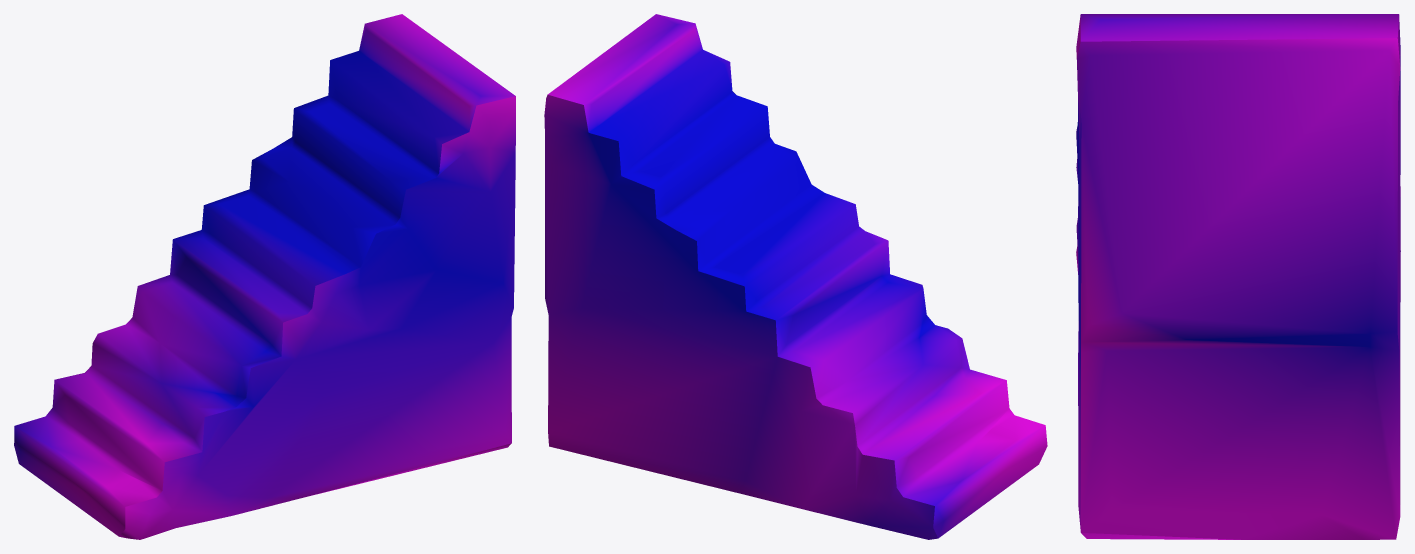
Rendered from SM_Stairs_A.FBX.
3 views of the same model, side by side, from view 1: azimuth 30°, elevation 25°; view 2: azimuth 150°, elevation 25°; view 3: azimuth 270°, elevation 25° (orthographic). The views are drawn at different scales.
Visible parts, largest first — view 1: SM_Stairs_A; view 2: SM_Stairs_A; view 3: SM_Stairs_A.
Part boxes in pixels (x1,y1,x2,y2): SM_Stairs_A: [14, 14, 515, 539]; SM_Stairs_A: [544, 14, 1047, 539]; SM_Stairs_A: [1076, 14, 1400, 539].
Size of what is drawn, in the model's own units: 199 by 99.81 by 171.
